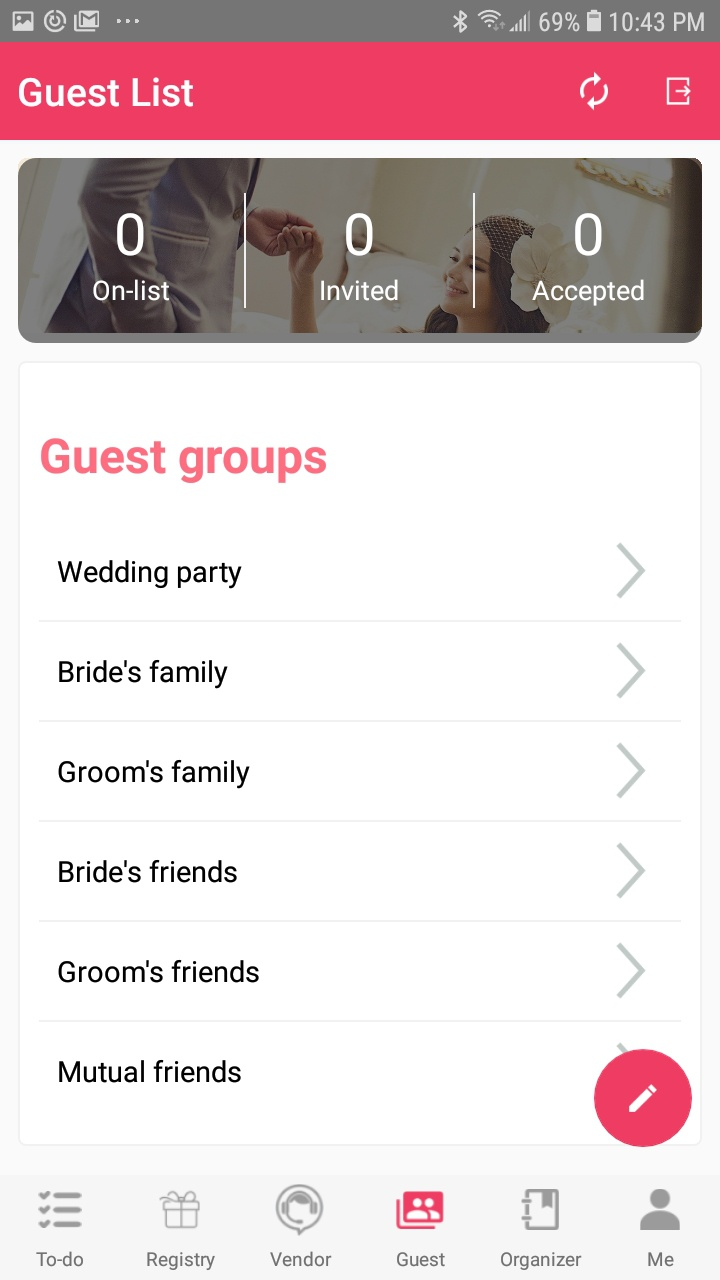Icon: (594, 1049, 693, 1147), (396, 1191, 444, 1229), (639, 1188, 681, 1231), (38, 1190, 83, 1229), (616, 542, 646, 600), (616, 642, 646, 699), (616, 742, 646, 799), (616, 842, 646, 899), (616, 942, 646, 999), (521, 1189, 560, 1230), (159, 1190, 201, 1228), (579, 72, 609, 112), (666, 77, 691, 107)
Image: (17, 158, 702, 344), (276, 1184, 324, 1236)
Text: (41, 438, 327, 484), (59, 760, 251, 789), (19, 78, 194, 109), (58, 560, 243, 589), (59, 660, 229, 689), (59, 960, 260, 984), (59, 860, 238, 884), (59, 1060, 242, 1083), (532, 280, 645, 307), (93, 279, 171, 302), (321, 279, 399, 302), (501, 1251, 582, 1270), (147, 1251, 216, 1271), (574, 213, 603, 257), (117, 213, 145, 257), (346, 213, 374, 257), (270, 1251, 332, 1267), (397, 1251, 446, 1267), (36, 1251, 84, 1267), (647, 1251, 674, 1267)
UpperTaskBar: (1, 1, 720, 43)
